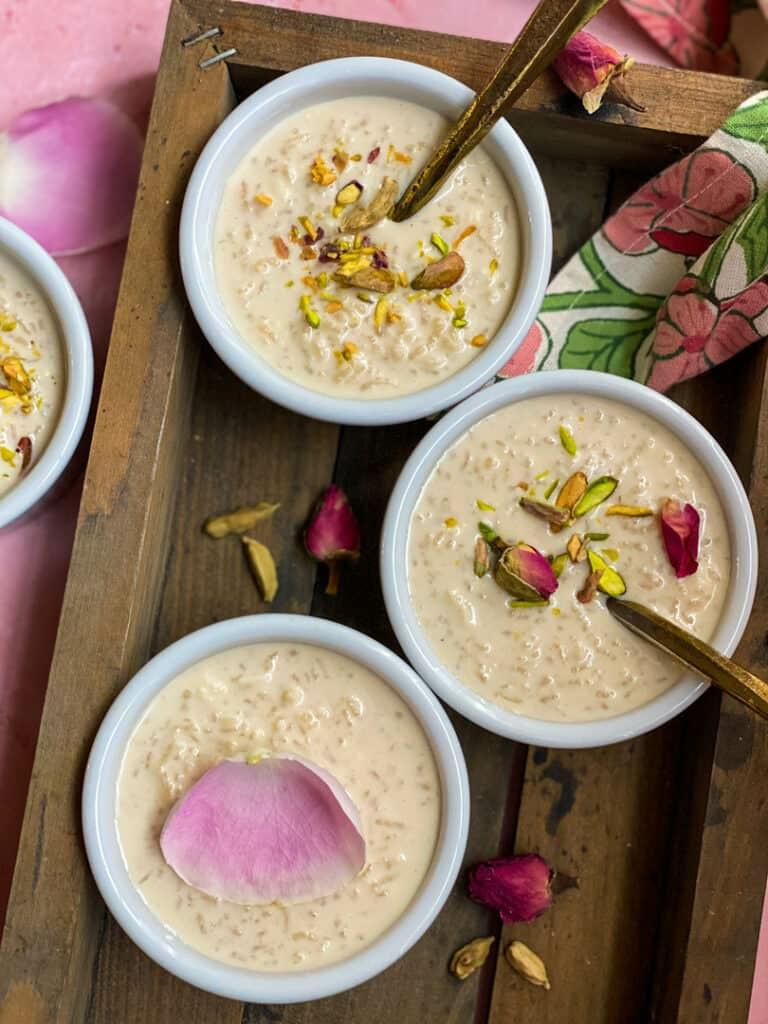Kheer: (111, 634, 439, 974), (407, 398, 737, 724), (201, 98, 521, 386), (0, 241, 65, 498)
